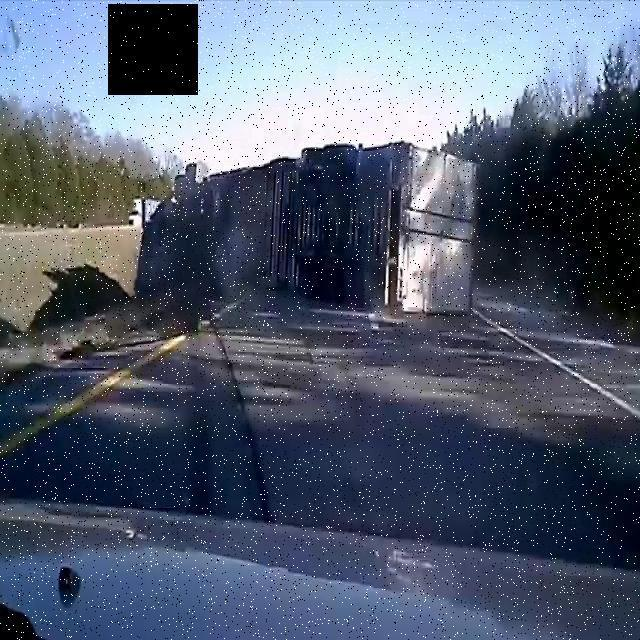high-cars-accident: (96, 136, 492, 348)
